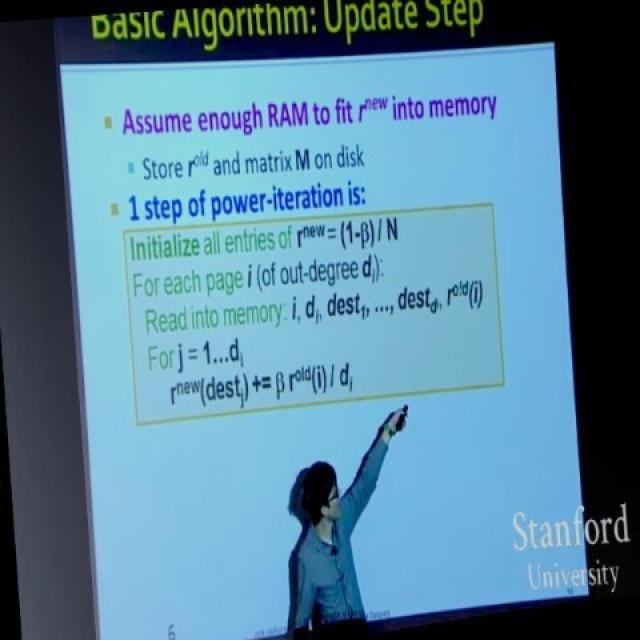Instructor: (268, 430, 376, 634)
Slide: (54, 5, 590, 640)
